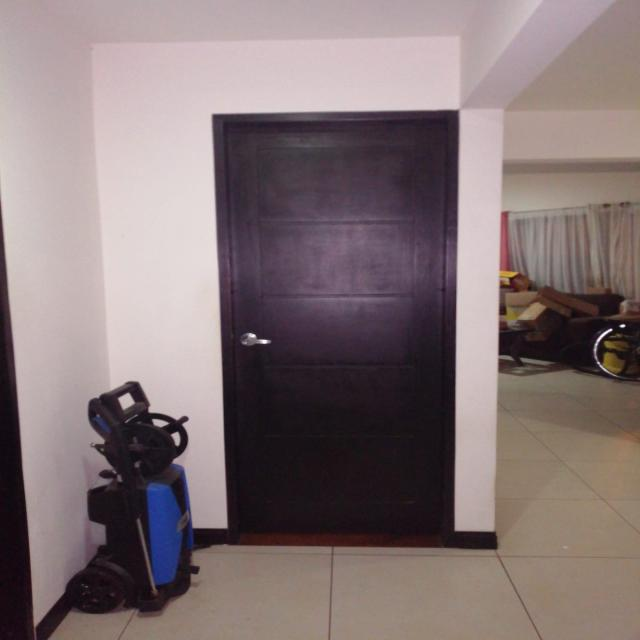ClosedDoor: (195, 93, 480, 552)
